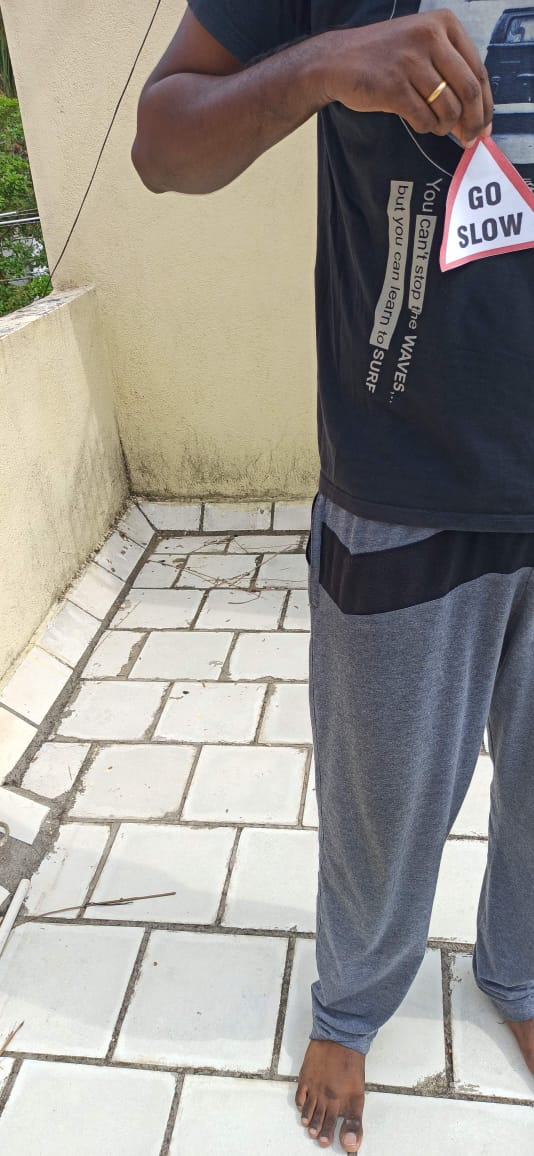GO SLOW: (415, 93, 534, 280)
